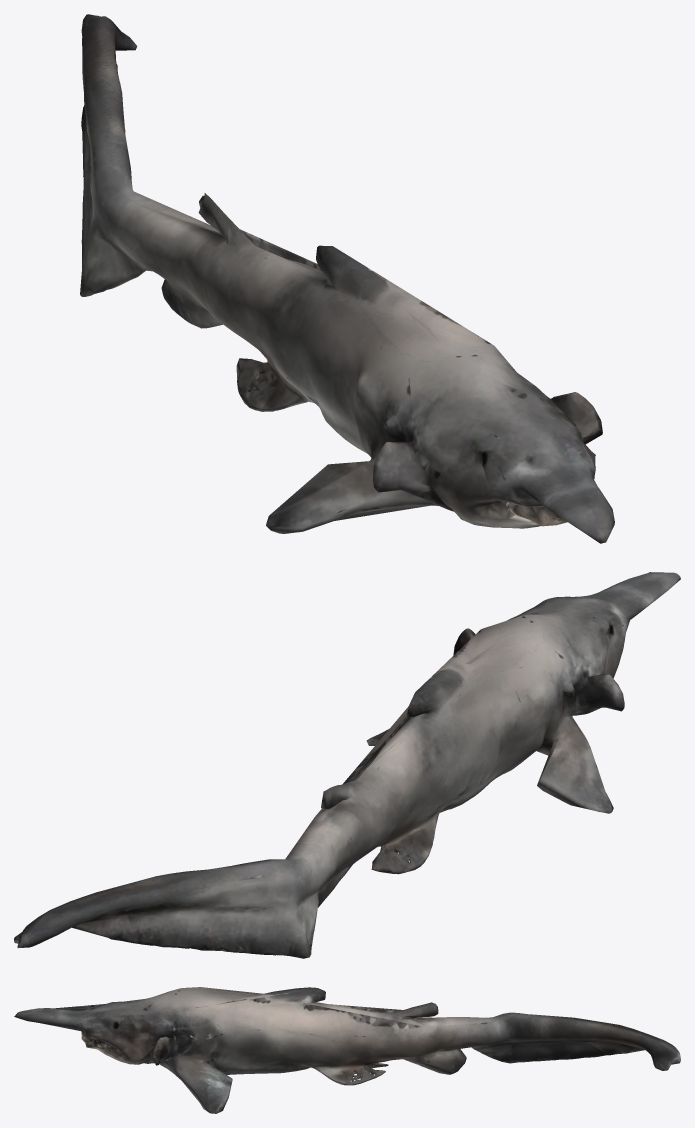
Rendered from goblin_shark.glb.
3 renders of one model, top to bottom at view 1: azimuth 30°, elevation 25°; view 2: azimuth 150°, elevation 25°; view 3: azimuth 270°, elevation 25°, orthographic. The views are drawn at different scales.
Parts seen in each view (by area): view 1: geometry_0; view 2: geometry_0; view 3: geometry_0.
Boxes of the visible parts, x1=… form: geometry_0: x1=80, y1=14, x2=614, y2=543; geometry_0: x1=14, y1=572, x2=680, y2=958; geometry_0: x1=14, y1=987, x2=680, y2=1113.
Bounding box in the file's own units: 0.2729 × 0.1491 × 1.
1 material, 1 textured.
